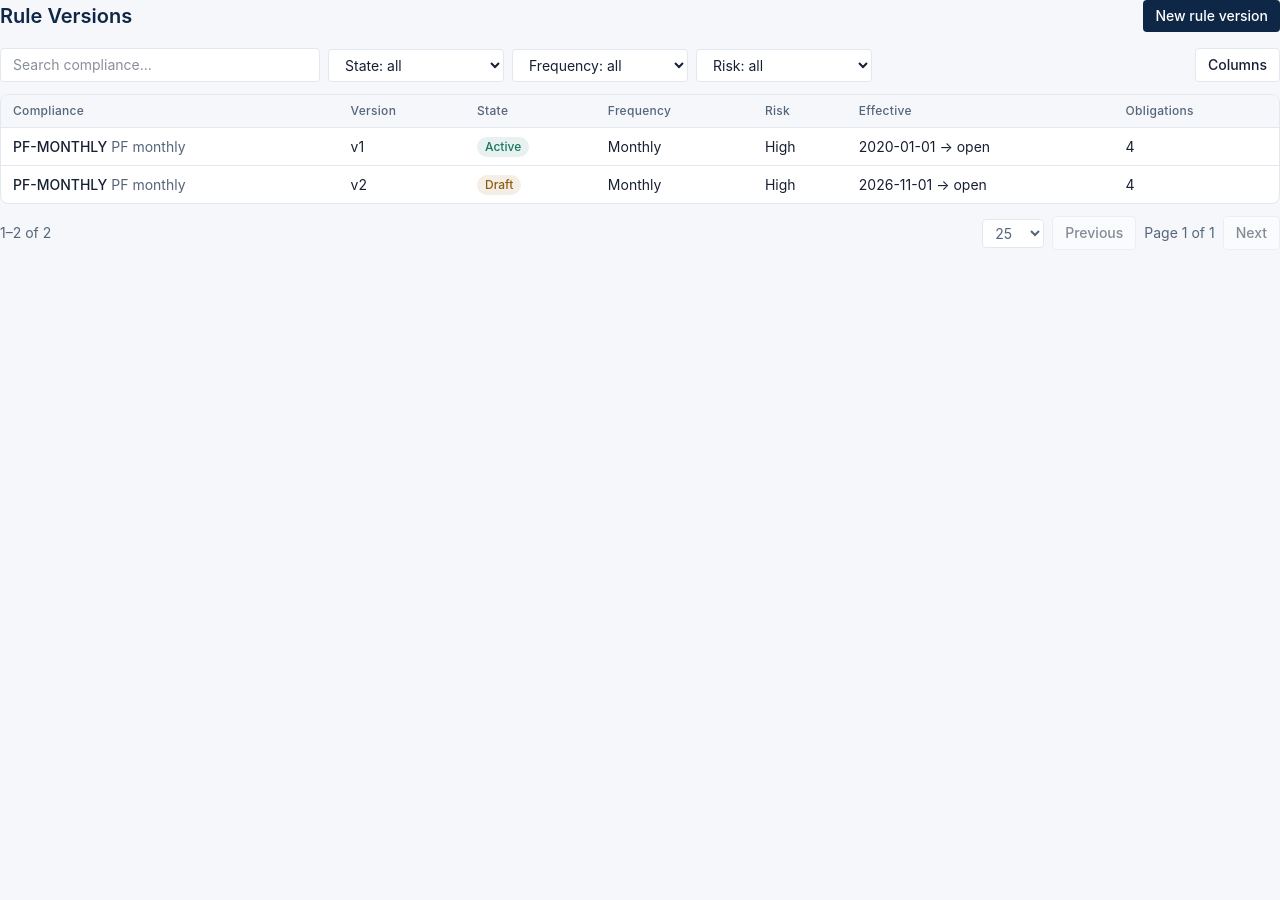
Rule Versions › evidence requirements of a PUBLISHED version are shown read-only
Click the text "v1" at (357, 146), box [339, 128, 465, 166]
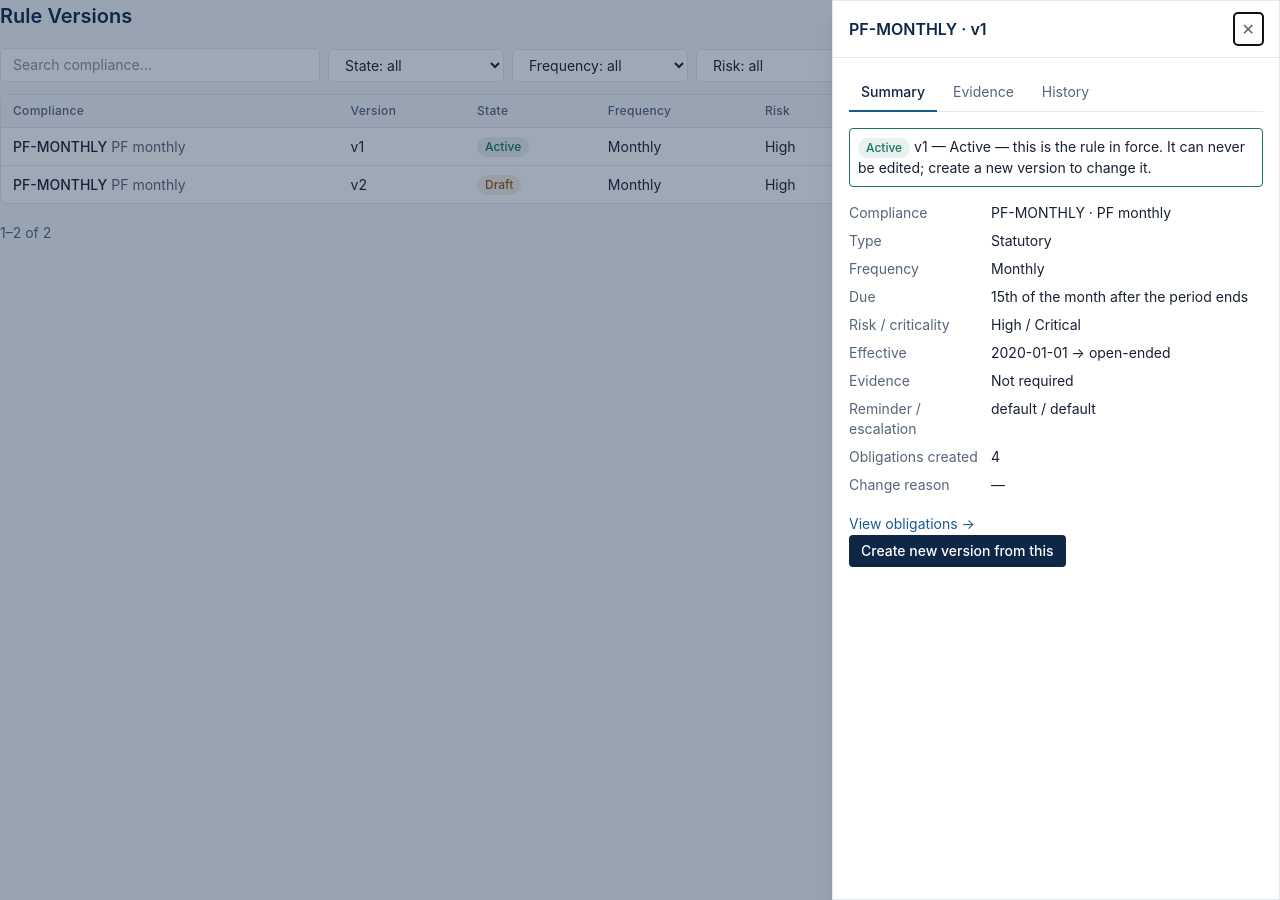
Click the tab "Evidence" at (983, 93), box [941, 74, 1026, 112]
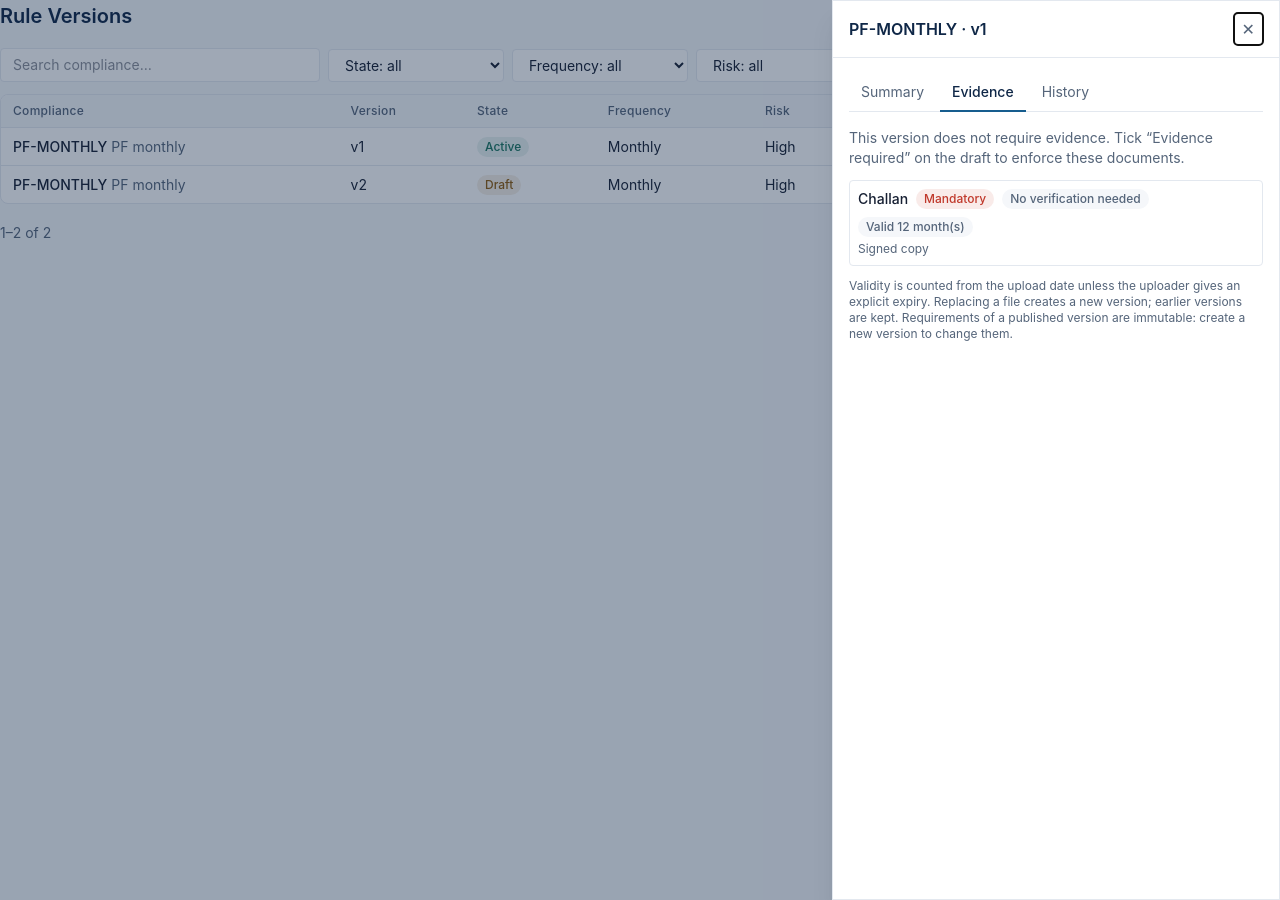
Result: the text "Valid 12 month(s)" is shown at [858, 217, 973, 237]
Result: the text "No verification needed" is shown at [1002, 189, 1149, 209]
Result: the text "immutable" is shown at [849, 310, 1245, 341]
